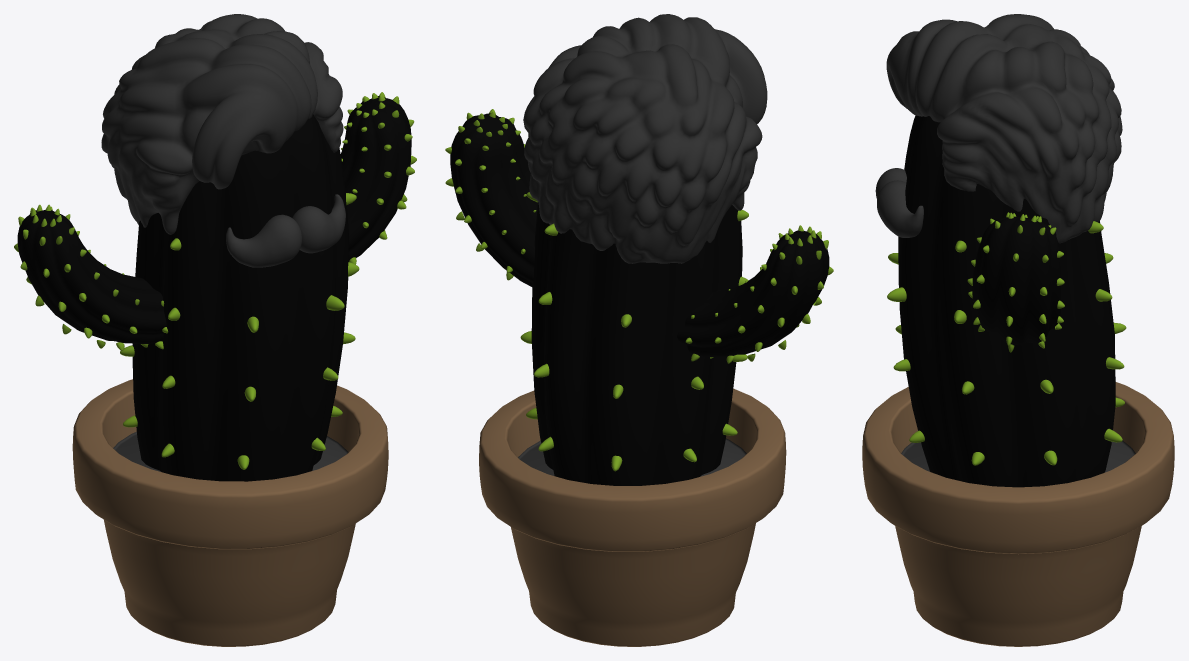
File: SM_Cactus_02.fbx
3 renders of one model, left to right at view 1: azimuth 30°, elevation 25°; view 2: azimuth 150°, elevation 25°; view 3: azimuth 270°, elevation 25°, orthographic. The views are drawn at different scales.
Parts seen in each view (by area): view 1: Cylinder.005, Circle.001, FM_Head_Hairs.001, FM_Head_Mustache.001; view 2: Cylinder.005, FM_Head_Hairs.001, Circle.001; view 3: Cylinder.005, Circle.001, FM_Head_Hairs.001, FM_Head_Mustache.001.
Boxes of the visible parts, x1,y1,x2,y2 form: Cylinder.005: [14, 92, 416, 481]; Circle.001: [72, 379, 388, 646]; FM_Head_Hairs.001: [101, 14, 343, 234]; FM_Head_Mustache.001: [226, 194, 345, 267]; Cylinder.005: [445, 109, 833, 485]; FM_Head_Hairs.001: [523, 14, 767, 263]; Circle.001: [479, 388, 786, 646]; Cylinder.005: [887, 115, 1126, 487]; Circle.001: [862, 382, 1174, 646]; FM_Head_Hairs.001: [886, 14, 1122, 243]; FM_Head_Mustache.001: [875, 168, 923, 237].
Bounding box in the file's own units: 125 × 181 × 88.98.
